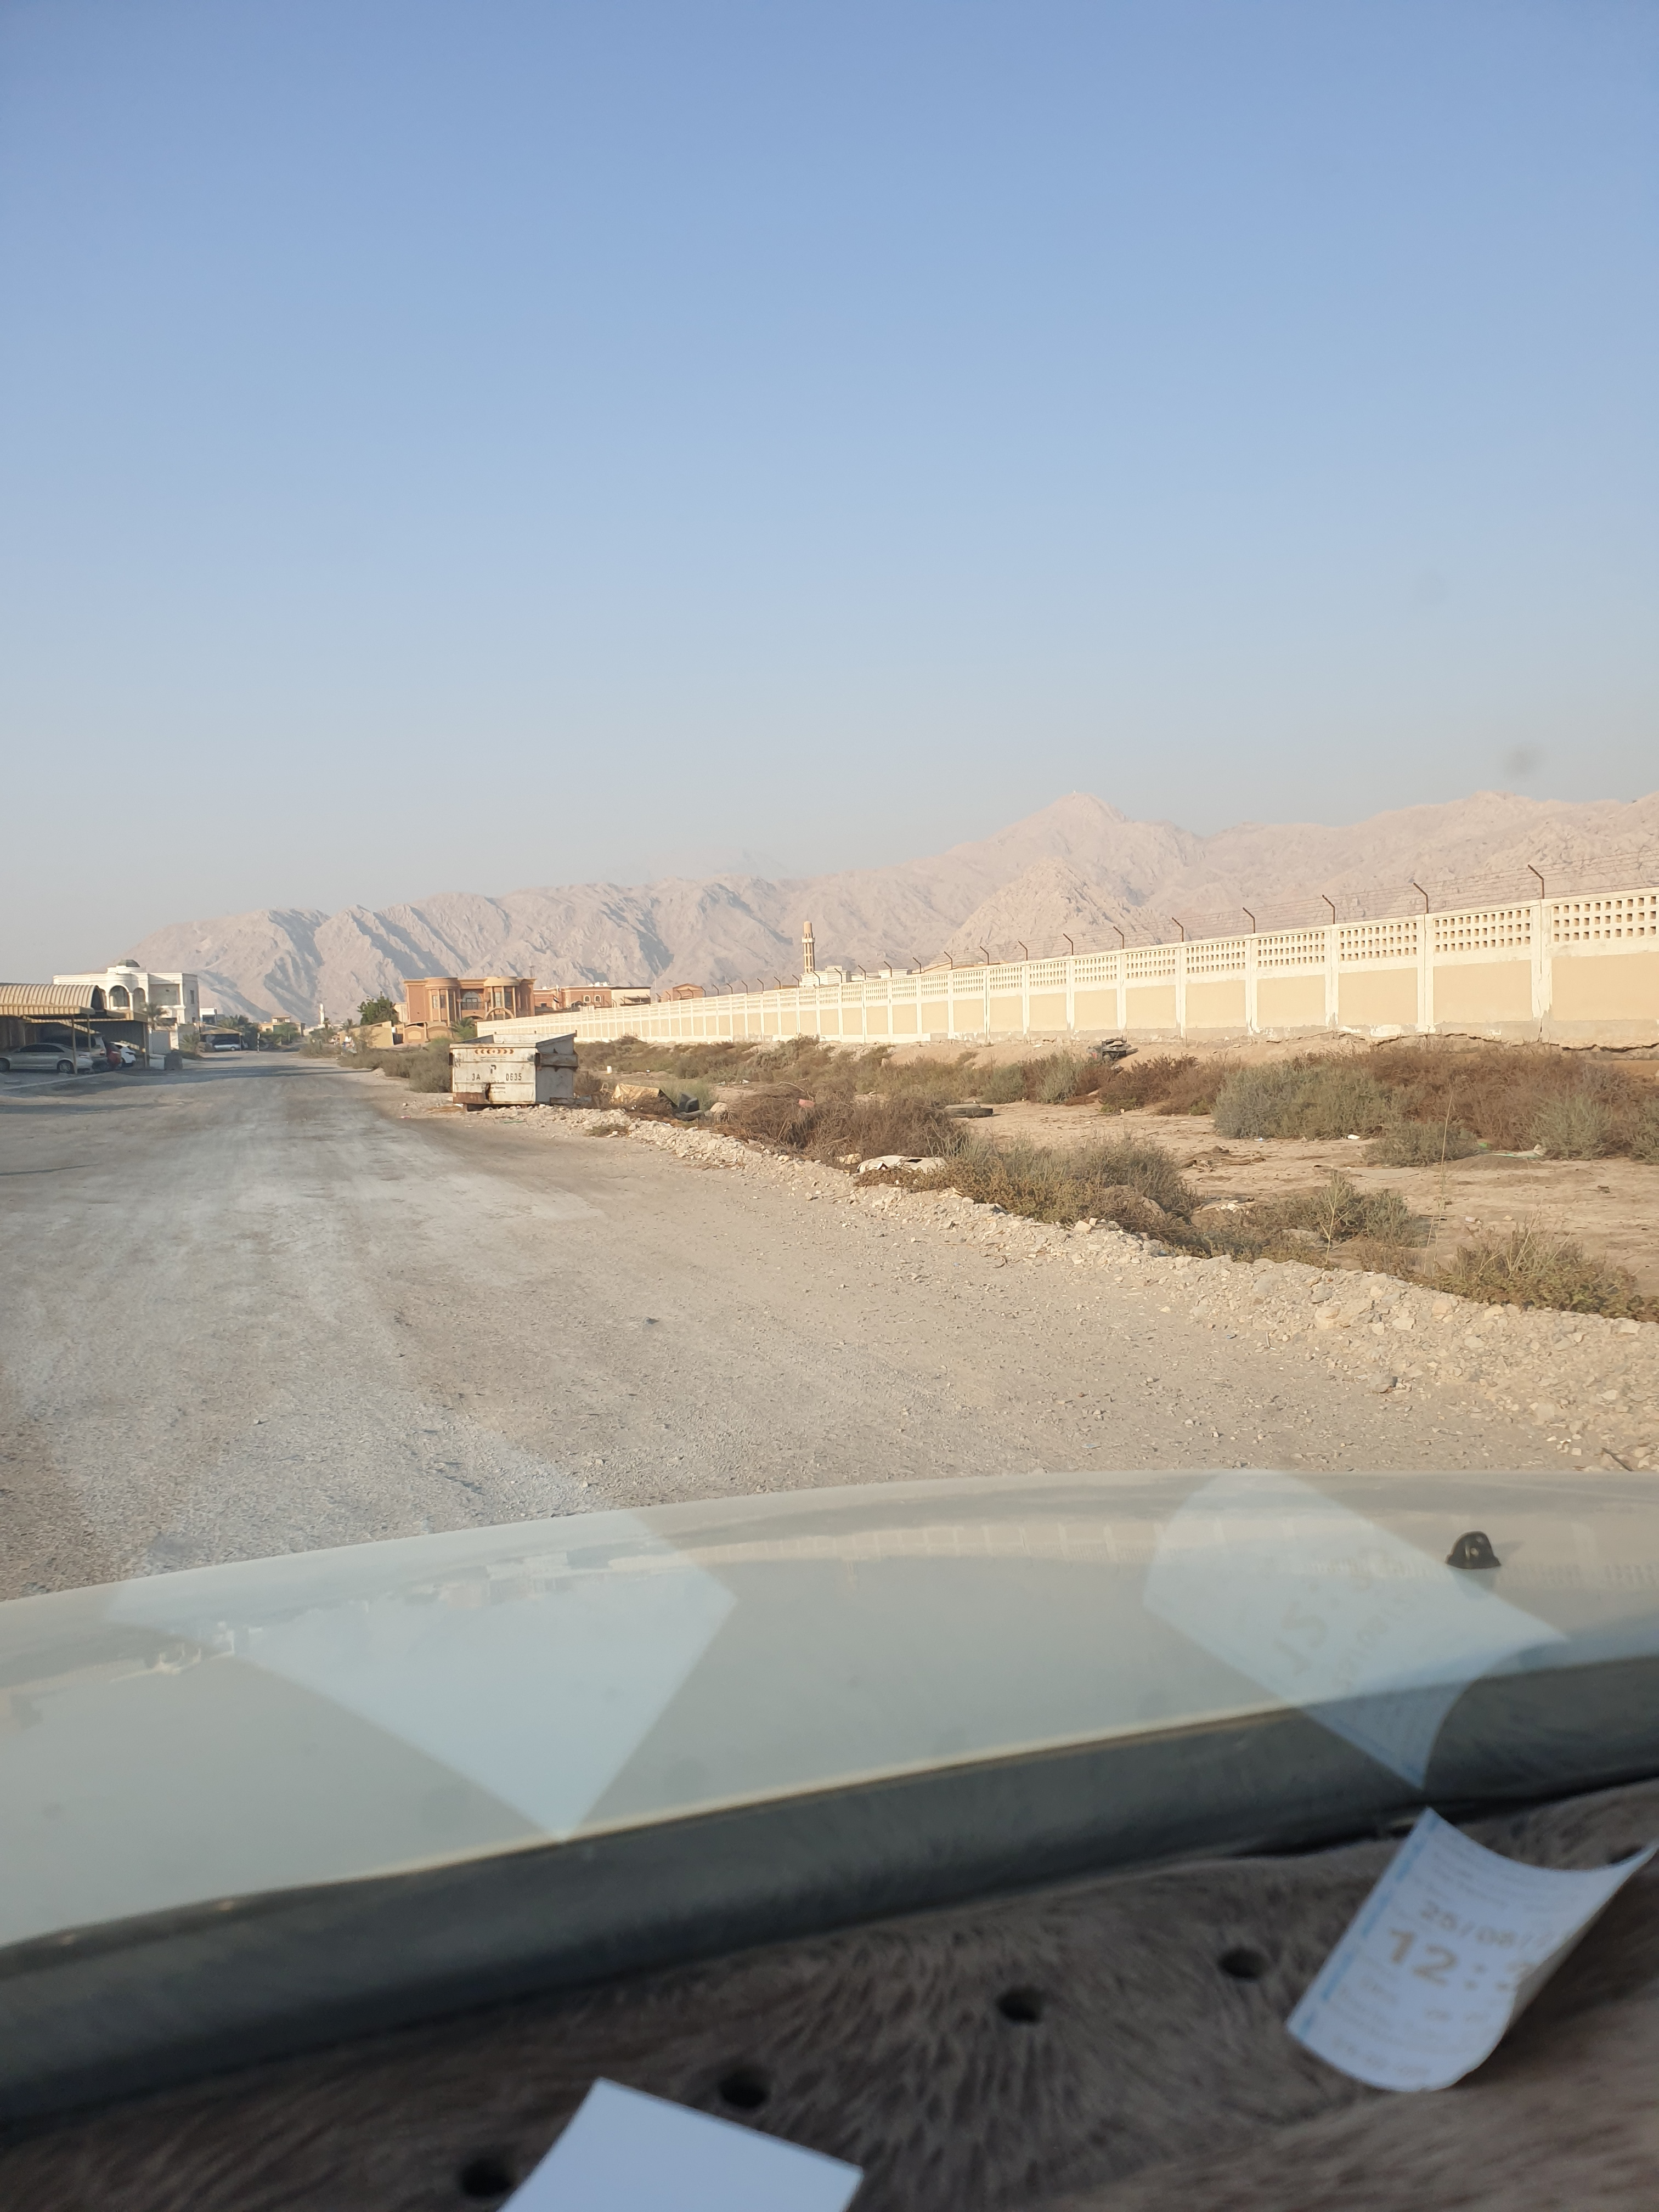uncollected_waste: (610, 1082, 674, 1120), (938, 1097, 1002, 1123), (680, 1090, 702, 1123)
